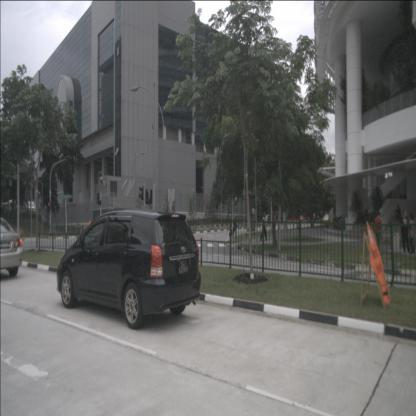human-pedestrian-adult: (401, 209, 410, 254), (374, 211, 382, 253), (408, 213, 415, 256), (260, 214, 268, 242), (394, 203, 402, 224)
vehicle-car: (56, 208, 201, 330), (0, 215, 28, 279), (265, 213, 276, 225), (322, 214, 332, 222)
